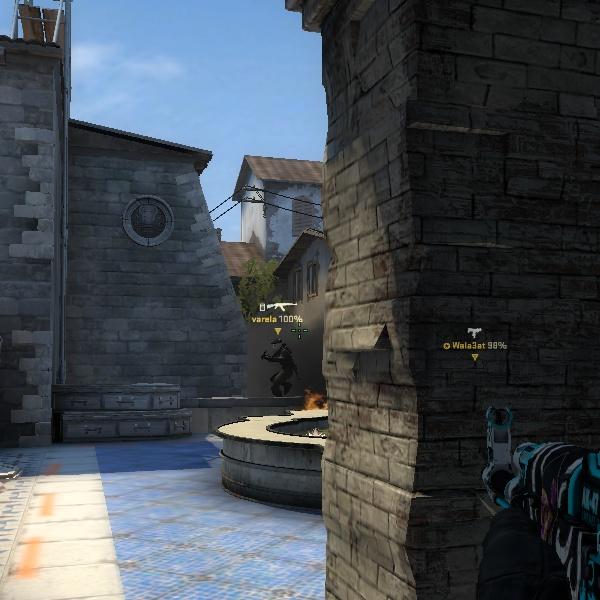ct_body: (258, 335, 299, 400)
